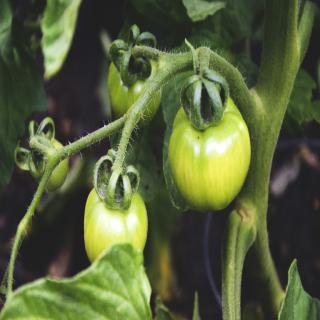tomato: (165, 36, 252, 212), (82, 148, 150, 268), (108, 24, 170, 127)
